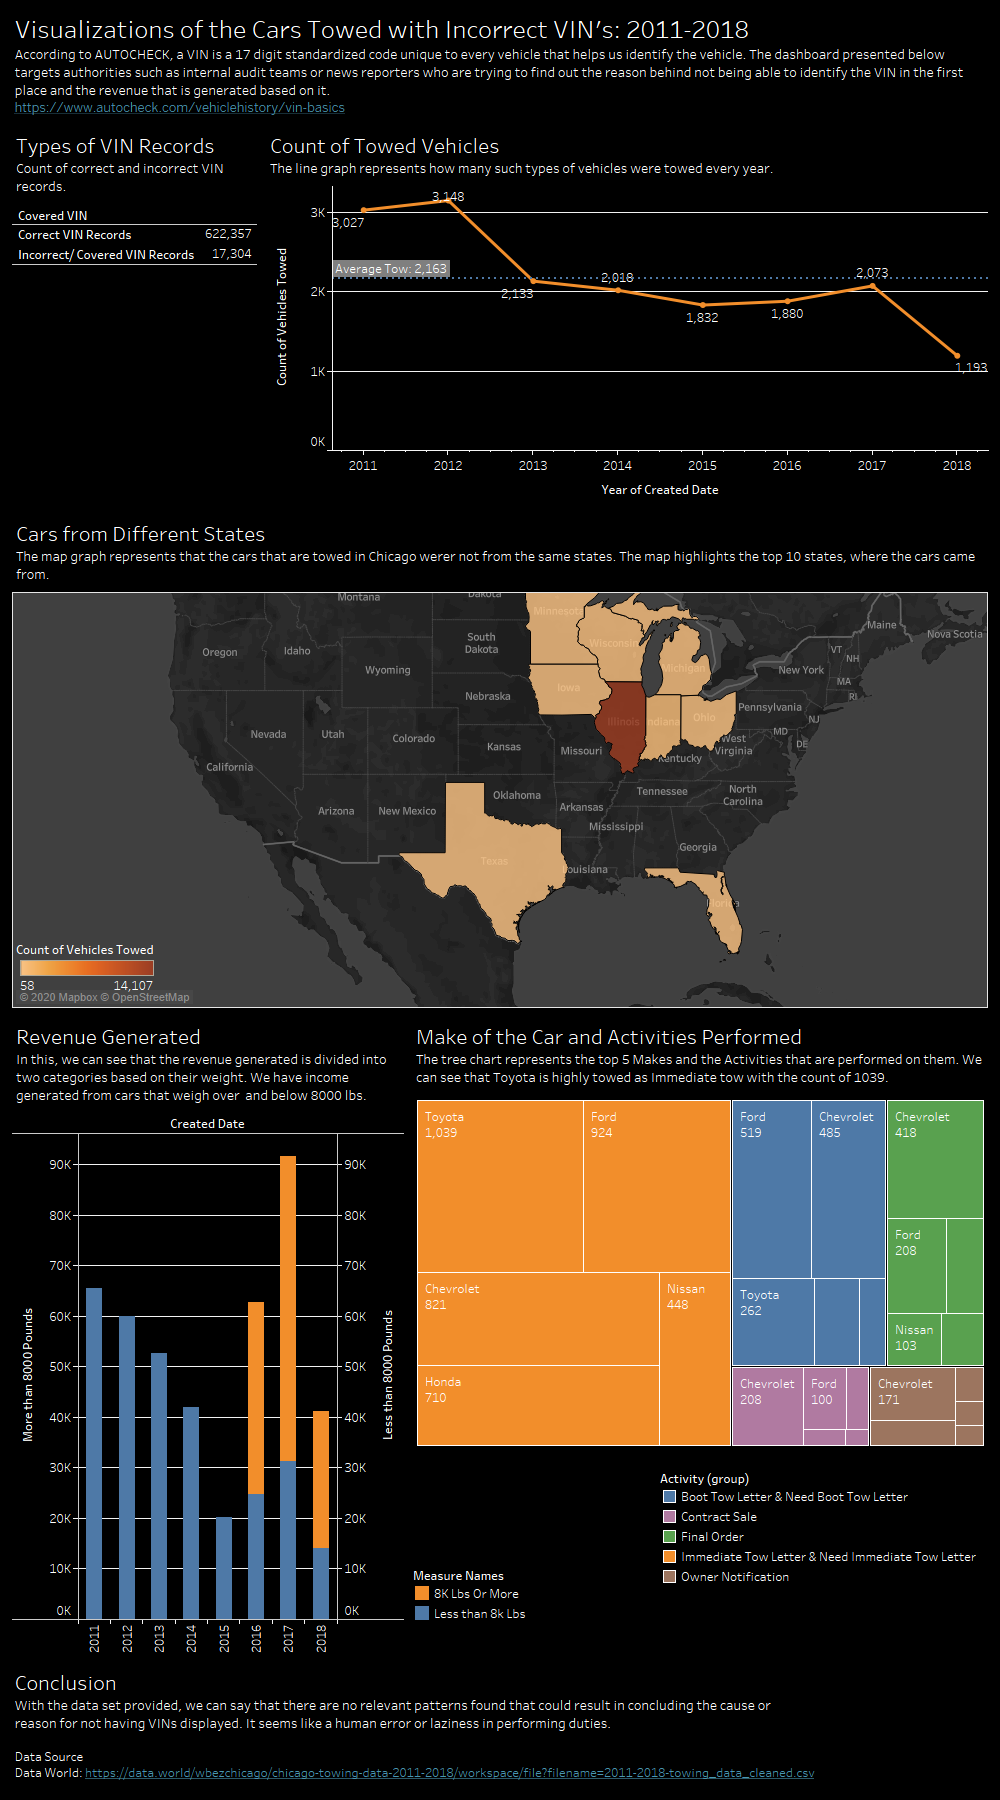

The dashboard page shown, as its layout file describes it:
{"tool":"tableau","page":{"name":"Final Dashboard","canvas":[1000,1800],"ordinal":0},"visuals":[{"type":"worksheet","box":[0,0,1000,1800]},{"type":"worksheet","param":"vert","box":[8,8,984,1784]},{"type":"worksheet","box":[8,8,984,113]},{"type":"worksheet","box":[8,121,984,1671]},{"type":"worksheet","param":"horz","box":[8,121,984,1543.2]},{"type":"worksheet","box":[8,121,984,1543.2]},{"type":"worksheet","param":"horz","box":[8,121,984,891]},{"type":"worksheet","box":[8,121,984,891]},{"type":"worksheet","param":"horz","box":[8,121,984,388.3]},{"type":"worksheet","param":"horz","box":[8,121,984,388.3]},{"type":"worksheet","title":"Types of VIN Records","mark":"Automatic","rows":["Calculation_947163361782513664"],"box":[8,121,254,388.3]},{"type":"worksheet","title":"Count of Towed Vehicles","mark":"Automatic","rows":["2011-2018-towing_data_cleaned.csv_D0FF9FE916C242DCA86647B045"],"cols":["Created Date"],"box":[262,121,730,388.3]},{"type":"worksheet","param":"vert","box":[8,509.3,984,502.7]},{"type":"worksheet","title":"Cars from Different States","mark":"Multipolygon","box":[8,509.3,984,502.7]},{"type":"worksheet","title":"Cars from Different States","mark":"Multipolygon","param":"[federated.030mrsm1x542vz13zrub20arv5sr].[__tableau_internal_object_id__].[cnt:2","box":[16,937,142,63]},{"type":"worksheet","param":"horz","box":[8,1012,984,652.2]},{"type":"worksheet","title":"Revenue Generated","mark":"Bar","rows":["8k lbs or more","Less than"],"cols":["Created Date"],"box":[8,1012,400,652.2]},{"type":"worksheet","title":"Make of the Car and Activities Performed","mark":"Automatic","box":[408,1012,584,652.2]},{"type":"worksheet","title":"Make of the Car and Activities Performed","mark":"Automatic","param":"[federated.030mrsm1x542vz13zrub20arv5sr].[Activity (group)]","box":[659,1468,324,143]},{"type":"worksheet","title":"Revenue Generated","mark":"Bar","rows":["8k lbs or more","Less than"],"cols":["Created Date"],"param":"[federated.030mrsm1x542vz13zrub20arv5sr].[:Measure Names]","box":[412,1565,128,80]},{"type":"worksheet","box":[8,1664.2,773,73.1]},{"type":"worksheet","box":[781,1664.2,179,73.1]},{"type":"worksheet","box":[960,1664.2,32,127.8]},{"type":"worksheet","box":[8,1737.4,952,54.6]}]}

Visuals, with their boxes in screenshot pixels (x1, y1, x2, y2), scaled from the page's 1000x1800 canvas onto the 1000x1800 screenshot:
worksheet: <box>0,0,999,1799</box>
worksheet: <box>8,8,992,1792</box>
worksheet: <box>8,8,992,121</box>
worksheet: <box>8,121,992,1792</box>
worksheet: <box>8,121,992,1664</box>
worksheet: <box>8,121,992,1664</box>
worksheet: <box>8,121,992,1012</box>
worksheet: <box>8,121,992,1012</box>
worksheet: <box>8,121,992,509</box>
worksheet: <box>8,121,992,509</box>
"Types of VIN Records" worksheet: <box>8,121,262,509</box>
"Count of Towed Vehicles" worksheet: <box>262,121,992,509</box>
worksheet: <box>8,509,992,1012</box>
"Cars from Different States" worksheet (Multipolygon marks): <box>8,509,992,1012</box>
"Cars from Different States" worksheet (Multipolygon marks): <box>16,937,158,1000</box>
worksheet: <box>8,1012,992,1664</box>
"Revenue Generated" worksheet (Bar marks): <box>8,1012,408,1664</box>
"Make of the Car and Activities Performed" worksheet: <box>408,1012,992,1664</box>
"Make of the Car and Activities Performed" worksheet: <box>659,1468,983,1611</box>
"Revenue Generated" worksheet (Bar marks): <box>412,1565,540,1645</box>
worksheet: <box>8,1664,781,1737</box>
worksheet: <box>781,1664,960,1737</box>
worksheet: <box>960,1664,992,1792</box>
worksheet: <box>8,1737,960,1792</box>
